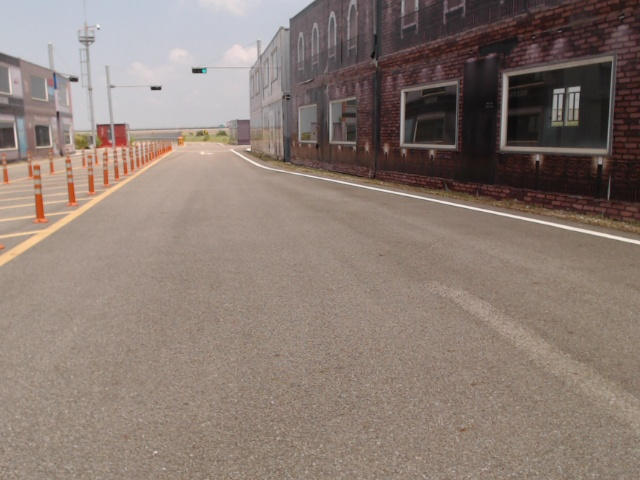green_3: (192, 68, 207, 74)
